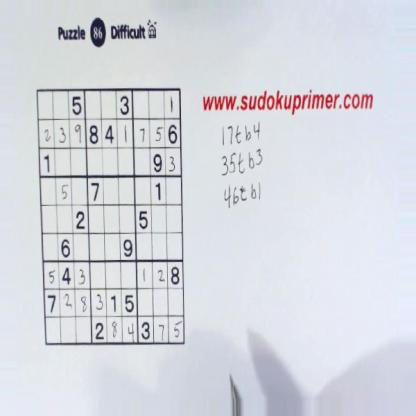sudoku: (32, 85, 186, 349)
